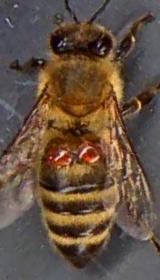varroa_mite: (71, 140, 105, 166), (44, 143, 74, 169)
